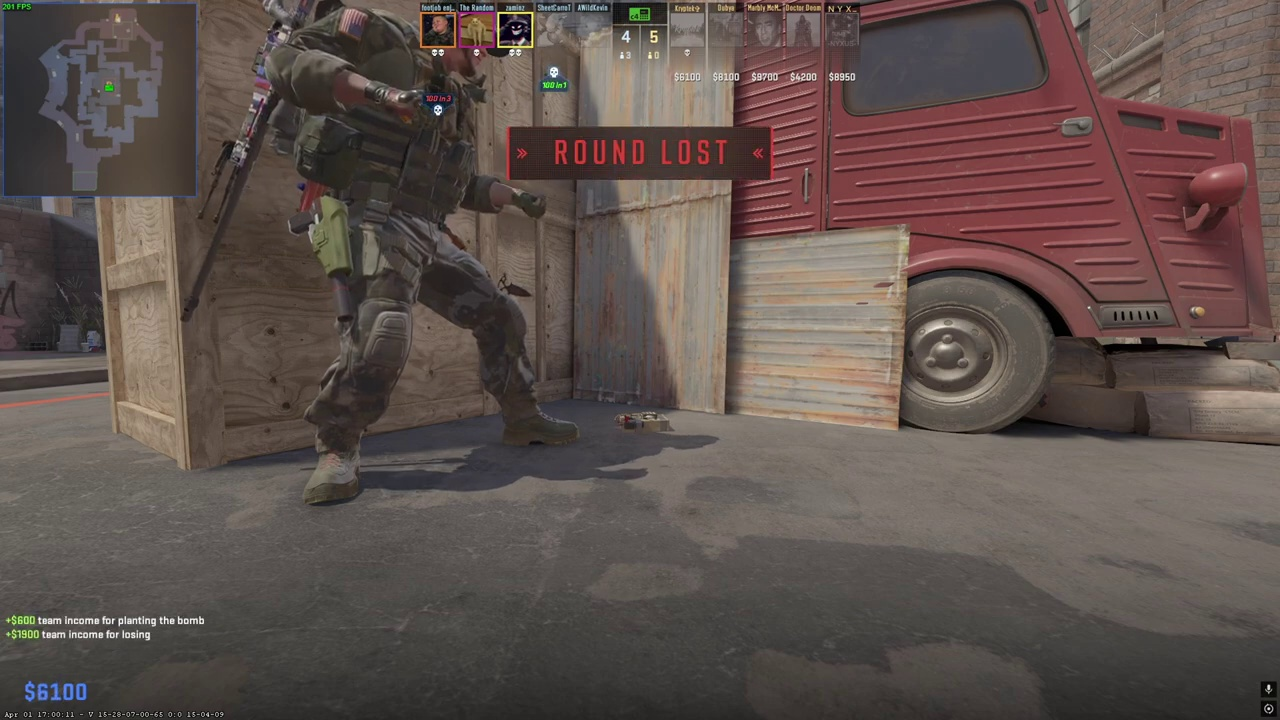CT: (269, 2, 582, 505)
